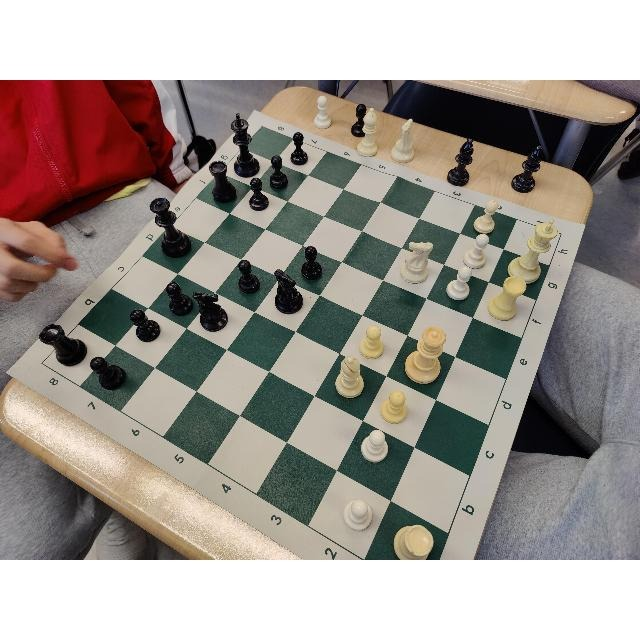black-king: (231, 113, 260, 177)
black-knight: (192, 290, 228, 331), (274, 268, 303, 313)
black-pawn: (90, 356, 127, 390), (130, 308, 161, 342), (166, 283, 193, 315), (237, 259, 261, 294), (248, 177, 270, 212), (302, 247, 322, 281), (270, 157, 288, 191), (290, 131, 307, 164)
black-queen: (148, 197, 191, 257)
black-rook: (40, 324, 88, 368), (208, 159, 235, 203)
white-bishop: (335, 356, 365, 398)
white-king: (508, 218, 558, 284)
white-knight: (400, 241, 434, 283)
white-pawn: (343, 498, 372, 532), (361, 429, 388, 463), (381, 391, 407, 425), (447, 267, 473, 301), (464, 233, 488, 269), (359, 325, 384, 359), (474, 201, 498, 233)
white-queen: (404, 328, 445, 386)
white-rook: (488, 275, 528, 321), (394, 524, 434, 560)
